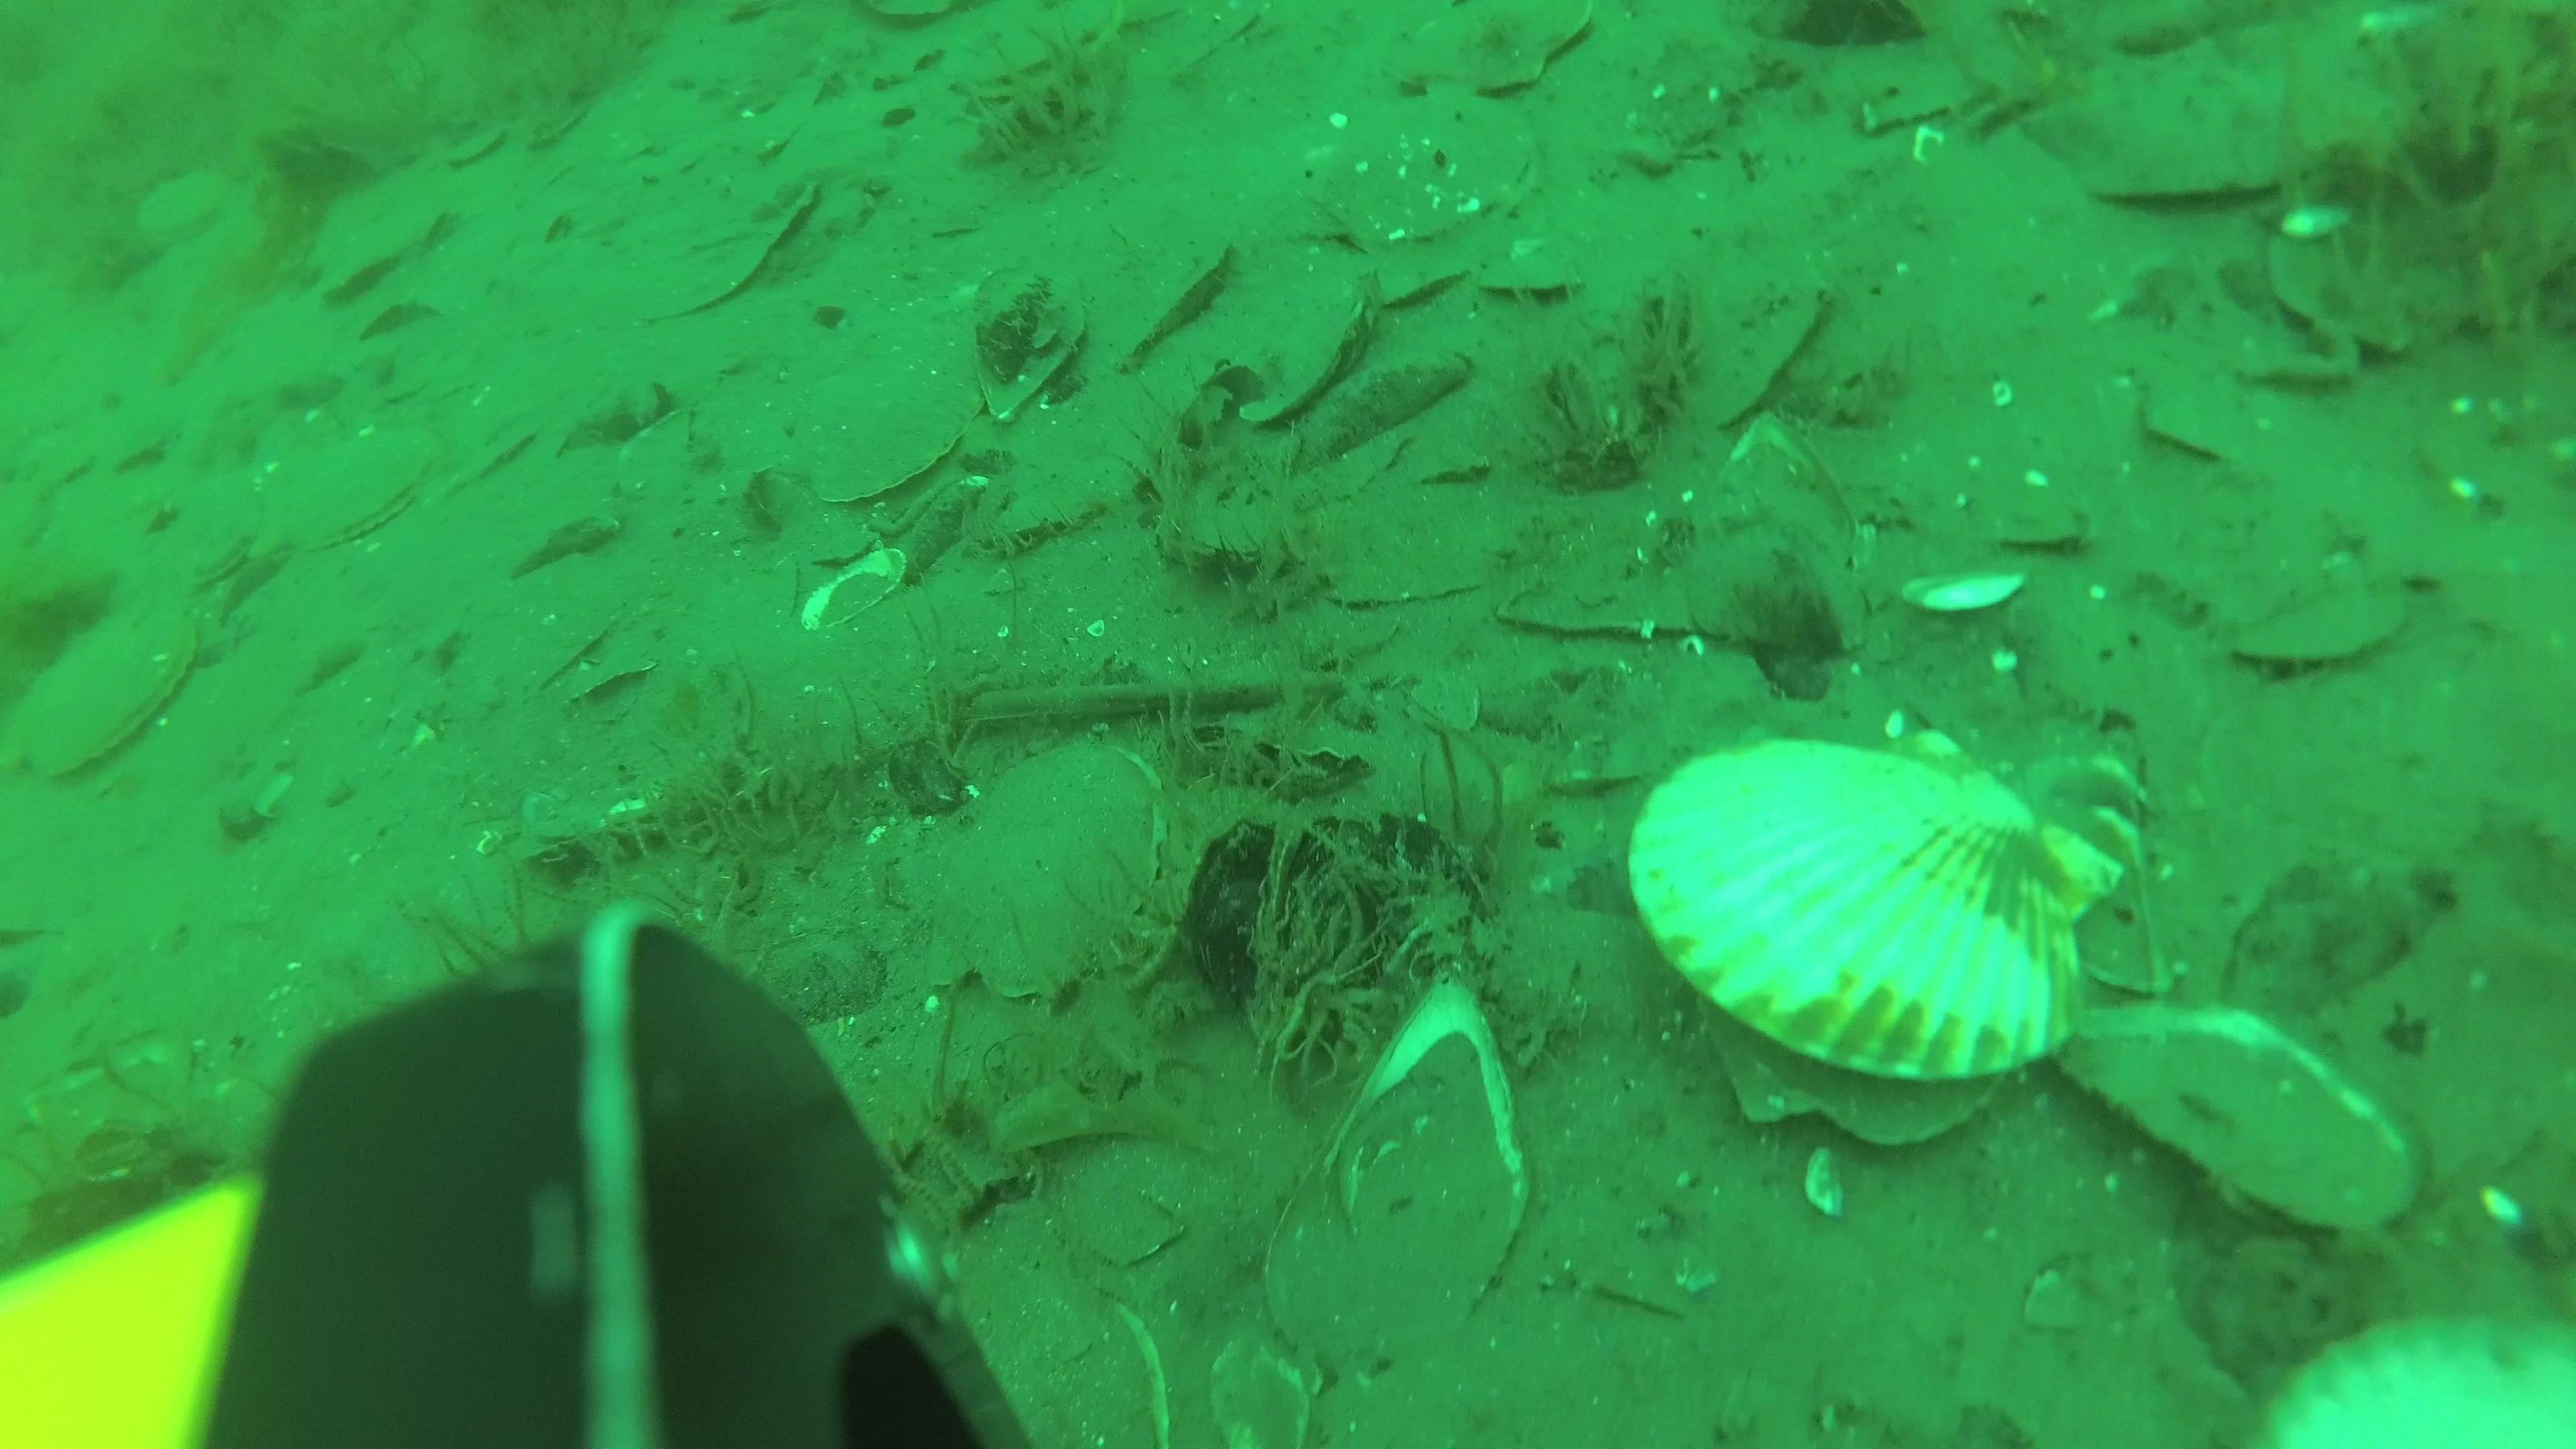scallop: (1637, 711, 2128, 1162), (893, 750, 1168, 1028), (1329, 99, 1546, 264), (25, 616, 203, 789), (800, 357, 978, 517), (1214, 276, 1394, 426), (1394, 4, 1628, 97), (283, 428, 439, 552), (2240, 577, 2419, 667), (1125, 239, 1244, 373), (320, 196, 444, 297), (150, 499, 271, 580), (1477, 249, 1583, 320), (1376, 241, 1474, 306)
